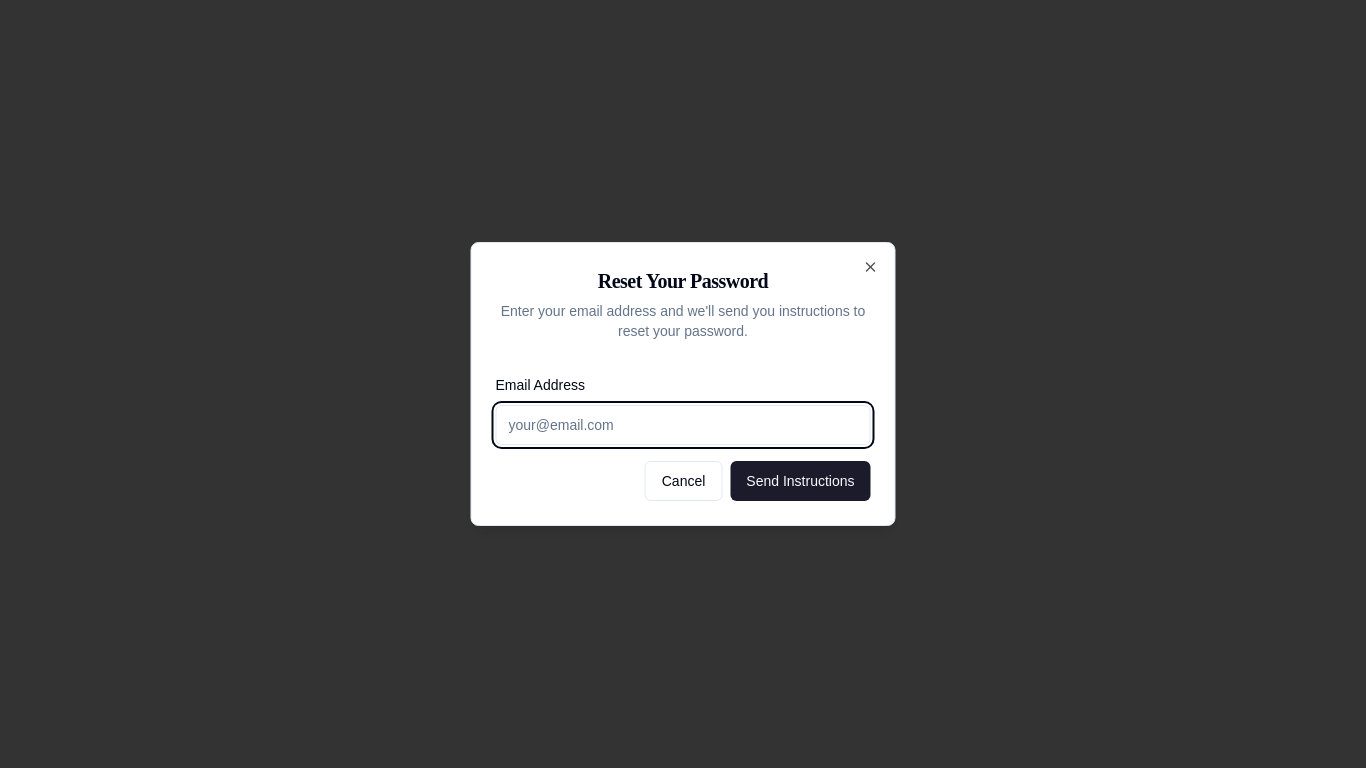
Test: ForgotPasswordModal › shows error message when resetPassword fails
This screenshot has width=1366, height=768.
Type "test@example.com" into the field labelled "Email Address" at (683, 425), box [496,405,870,445]
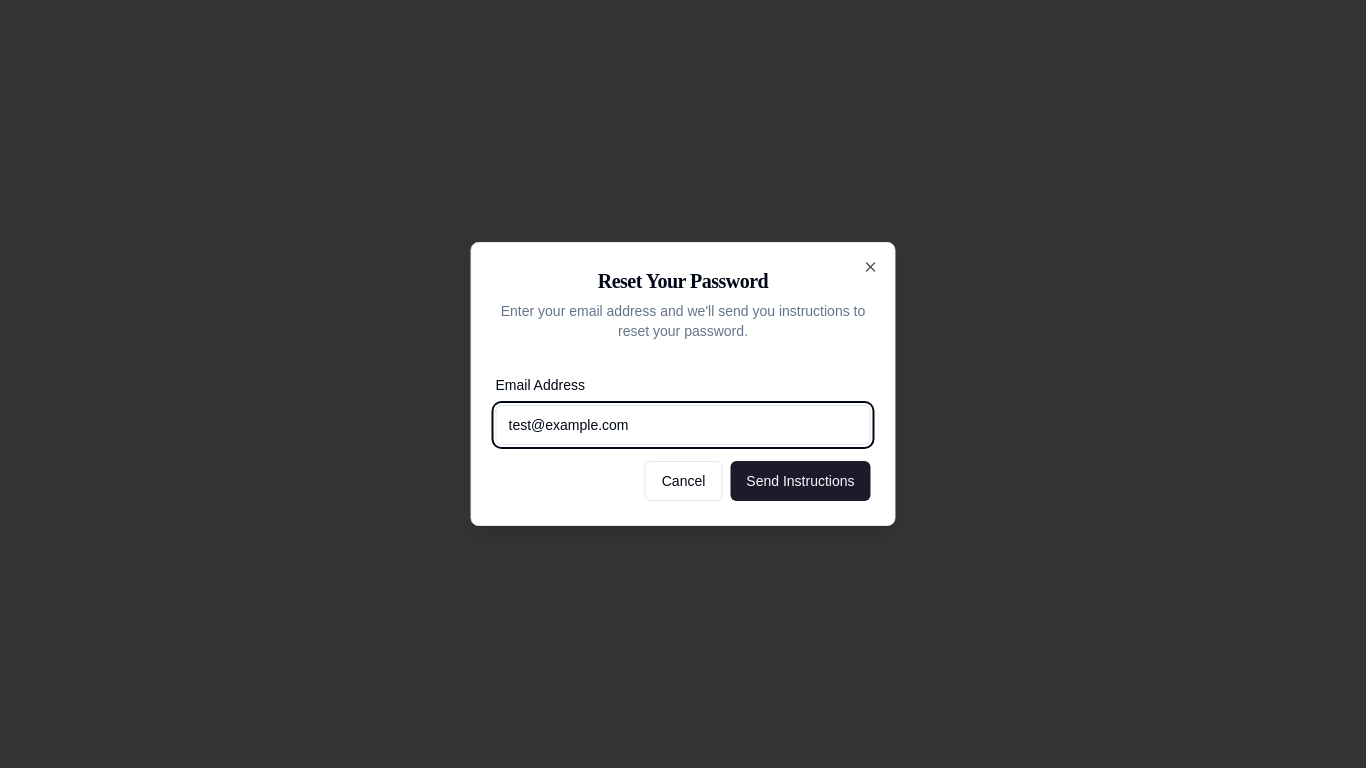
Click the button "Send Instructions" at (800, 481), box [730,461,870,501]
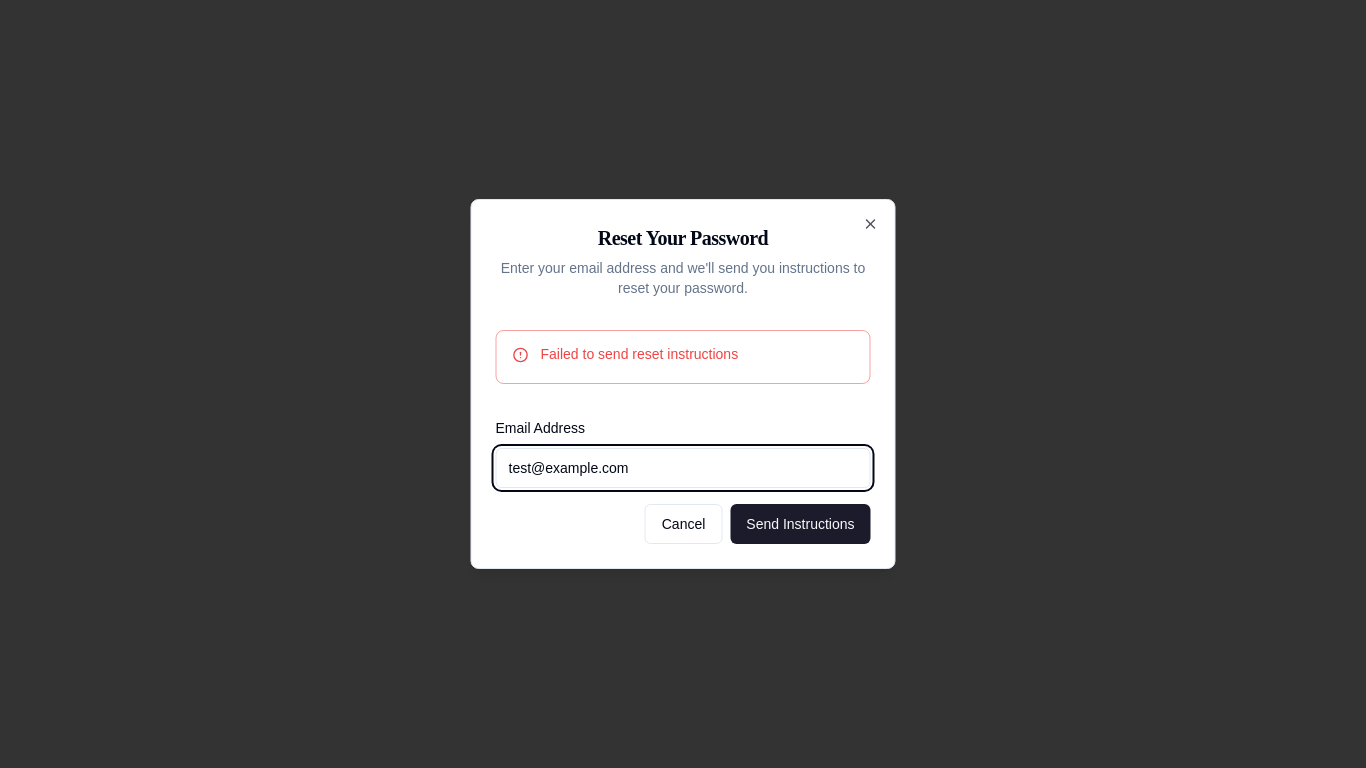
Expected: the text "Failed to send reset instructions" is shown, [540,346,738,362]
